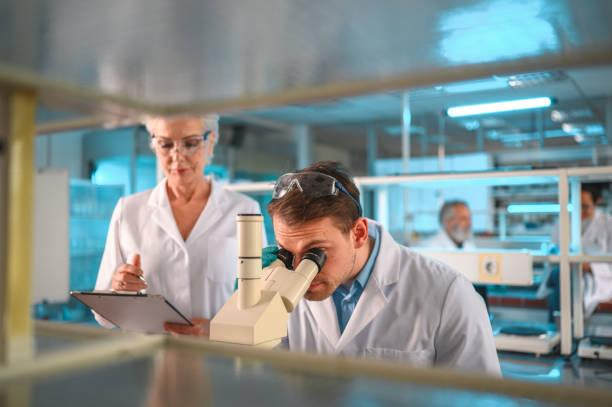Goggles: (146, 134, 215, 156)
Lab_coat: (291, 271, 503, 373), (102, 182, 242, 316)
